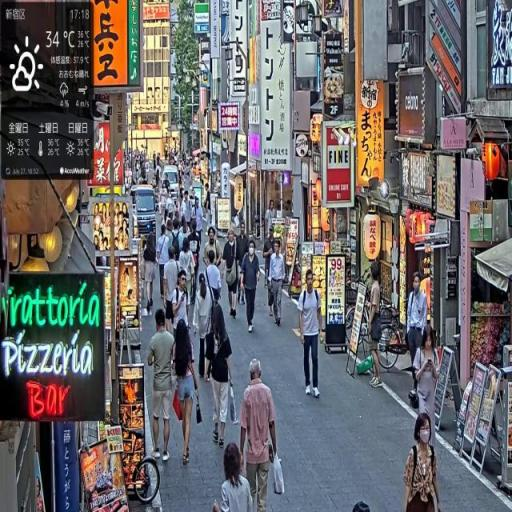person: (239, 357, 280, 512), (172, 312, 203, 469), (147, 312, 177, 464), (208, 298, 236, 450), (403, 410, 443, 512), (412, 324, 442, 451), (298, 268, 324, 404), (406, 273, 429, 406), (218, 442, 256, 512), (365, 265, 386, 391), (194, 273, 215, 386), (240, 238, 263, 335), (268, 238, 288, 329), (223, 226, 242, 319), (163, 248, 181, 340), (179, 237, 198, 316), (144, 225, 159, 315), (157, 219, 171, 306), (204, 229, 224, 272)
